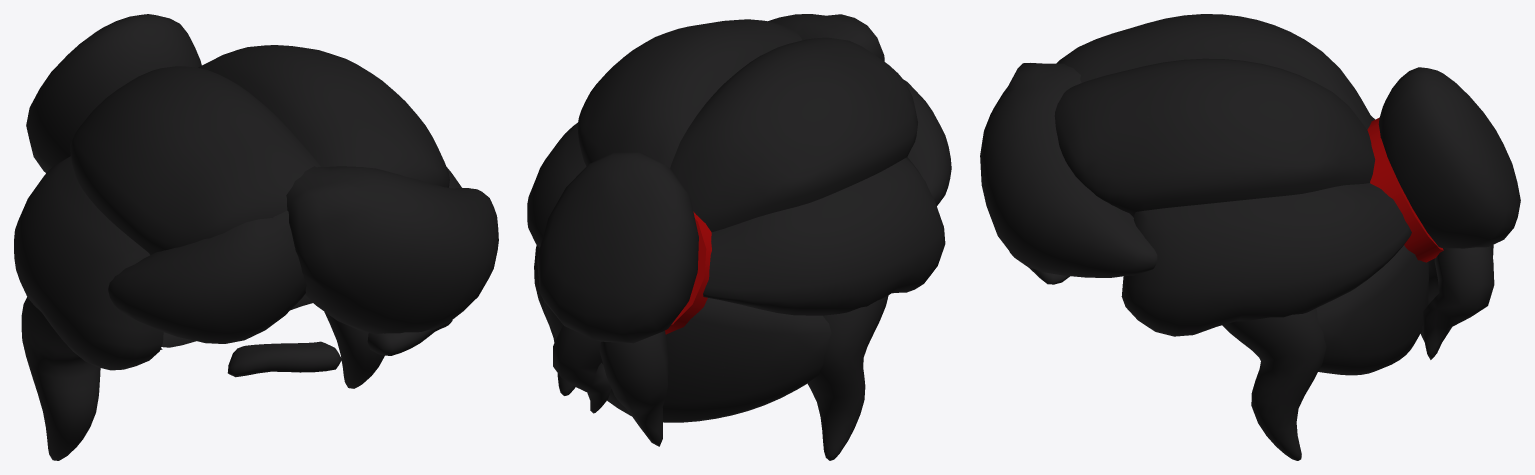
3 views of the same model, side by side, from view 1: azimuth 30°, elevation 25°; view 2: azimuth 150°, elevation 25°; view 3: azimuth 270°, elevation 25° (orthographic). The views are drawn at different scales.
Parts seen in each view (by area): view 1: 27女发1; view 2: 27女发1; view 3: 27女发1.
Part boxes in pixels (box(x1,y1,x2,y2)): 27女发1: box(14, 14, 498, 460); 27女发1: box(527, 14, 951, 460); 27女发1: box(980, 14, 1520, 460).
Size of the model in its own units: 0.4635 by 0.4227 by 0.5905.
